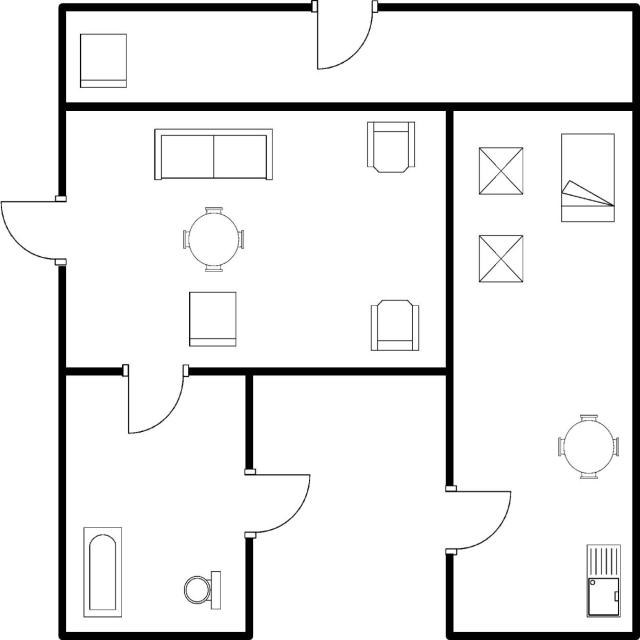armchair: (362, 118, 418, 177), (367, 294, 422, 354)
bed: (556, 129, 620, 226)
coffee_table: (475, 231, 529, 292), (474, 140, 526, 200)
large_sink: (179, 567, 227, 612)
large_sofa: (150, 124, 275, 186)
round_table: (177, 202, 250, 278), (556, 409, 622, 484)
sink: (581, 540, 624, 621)
small_sofa: (76, 29, 132, 92), (184, 288, 240, 350)
tub: (78, 524, 127, 623)
